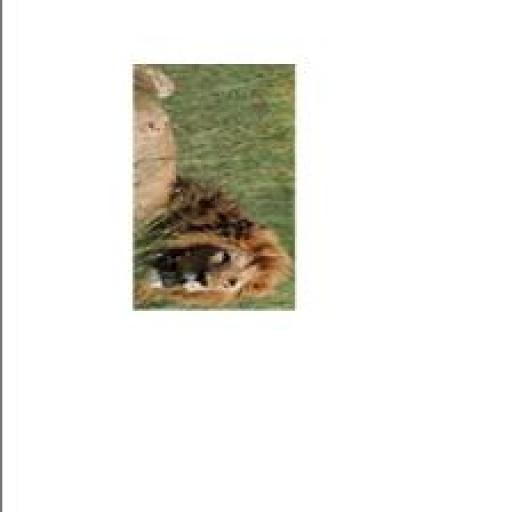lion: (128, 188, 305, 313)
